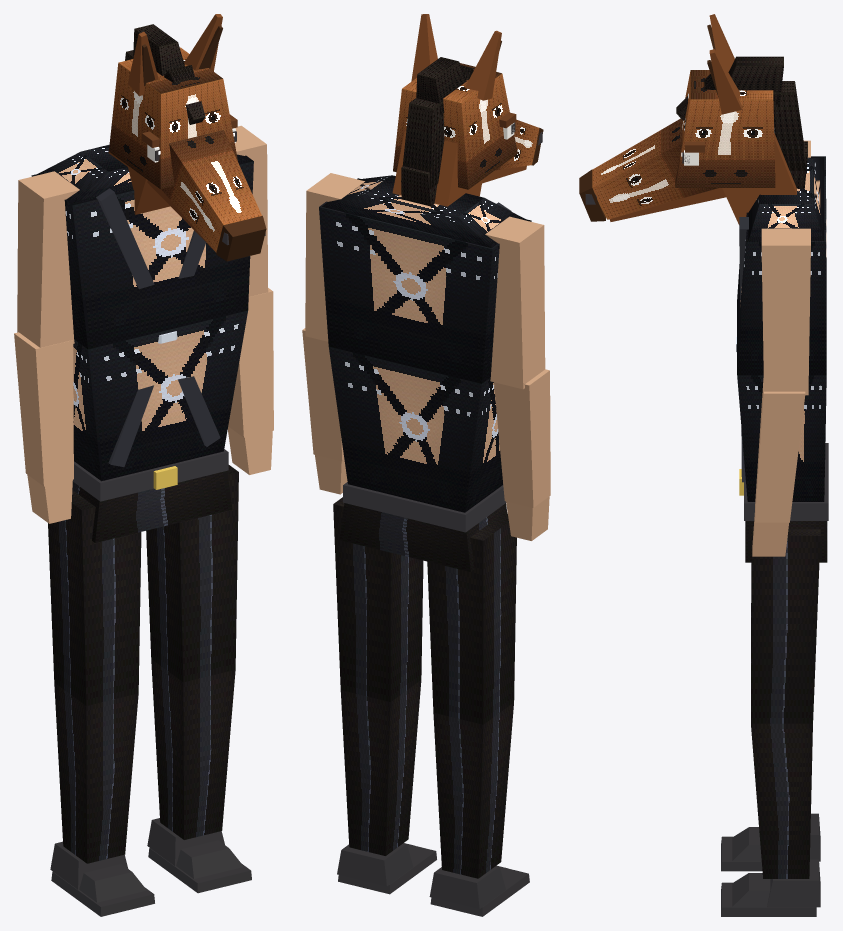
The model's file is npc_riddle_horse.glb.
3 renders of one model, left to right at view 1: azimuth 30°, elevation 25°; view 2: azimuth 150°, elevation 25°; view 3: azimuth 270°, elevation 25°, orthographic. The views are drawn at different scales.
Parts seen in each view (by area): view 1: body, legL, legR, head, armL, armR; view 2: body, legL, legR, head, armL, armR; view 3: legR, head, body, armR, legL.
Part boxes in pixels (x1=…): body: x1=31, y1=144, x2=253, y2=542; legL: x1=48, y1=490, x2=154, y2=916; legR: x1=146, y1=465, x2=251, y2=893; head: x1=108, y1=14, x2=266, y2=261; armL: x1=14, y1=171, x2=79, y2=523; armR: x1=227, y1=125, x2=273, y2=474; body: x1=319, y1=175, x2=531, y2=571; legL: x1=427, y1=513, x2=529, y2=916; legR: x1=333, y1=497, x2=436, y2=894; head: x1=392, y1=14, x2=543, y2=206; armL: x1=485, y1=216, x2=550, y2=540; armR: x1=302, y1=173, x2=364, y2=494; legR: x1=721, y1=529, x2=820, y2=916; head: x1=579, y1=14, x2=807, y2=224; body: x1=736, y1=156, x2=828, y2=562; armR: x1=752, y1=228, x2=810, y2=556; legL: x1=721, y1=563, x2=820, y2=871.
Bounding box in the file's own units: 0.6094 × 2.15 × 0.5723.
19 materials, 4 textured.
